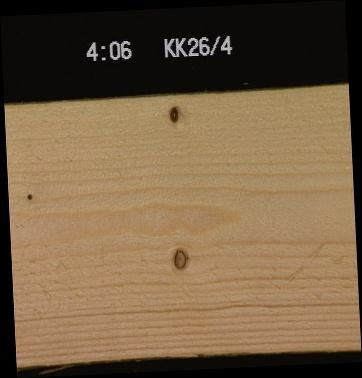dry_knot: (171, 246, 187, 270), (167, 104, 179, 123)
small_knot: (23, 190, 33, 201)
